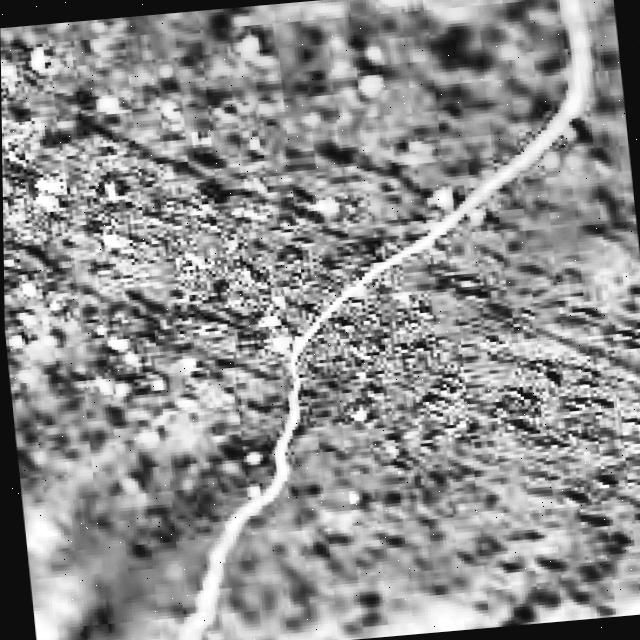door_scratch: (360, 58, 612, 296), (254, 301, 367, 479), (152, 517, 266, 640)
